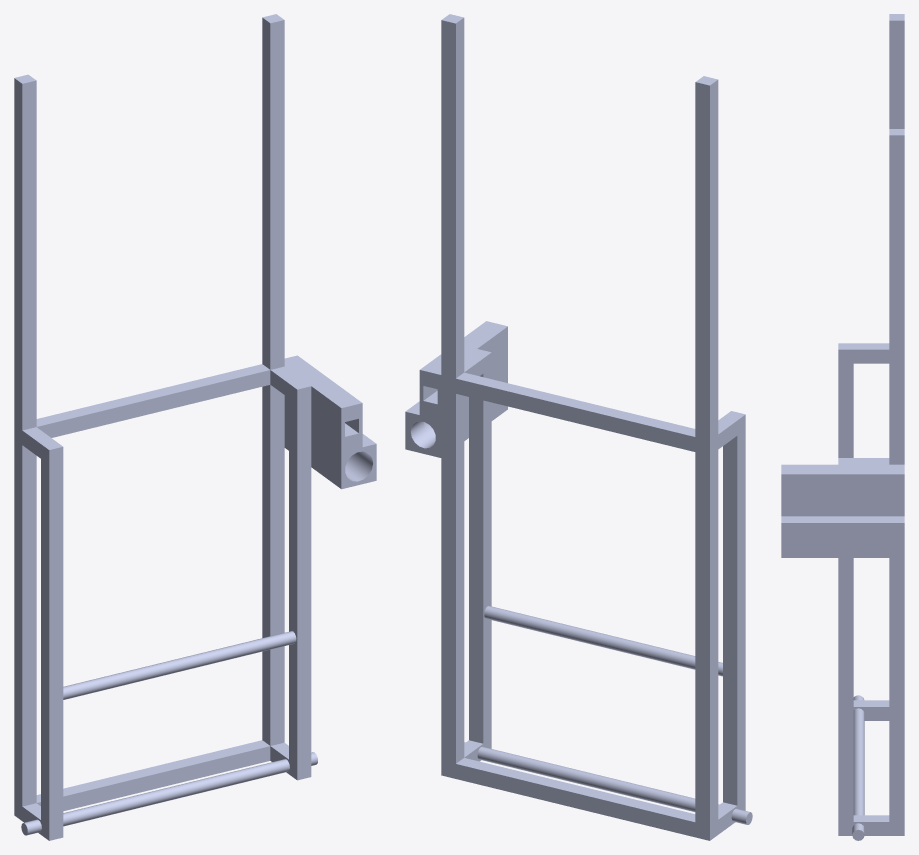
File: body1_visual.obj
The picture shows the model from 3 angles, left to right: view 1: azimuth 30°, elevation 25°; view 2: azimuth 150°, elevation 25°; view 3: azimuth 270°, elevation 25°; orthographic projection. The views are drawn at different scales.
Visible parts, largest first — view 1: Body1; view 2: Body1; view 3: Body1.
Boxes of the visible parts, x1,y1,x2,y2 form: Body1: (14,14,376,840); Body1: (405,14,752,840); Body1: (781,14,904,840).
Bounding box in the file's own units: 22.1 × 50 × 8.
